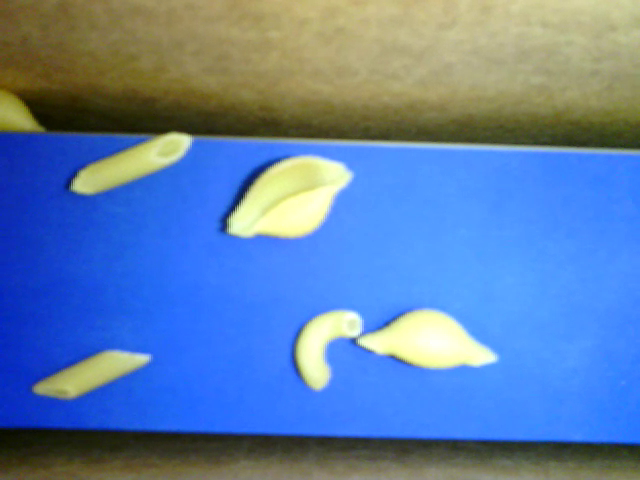elbow: (289, 305, 365, 398)
penne: (65, 122, 196, 203), (27, 338, 160, 402)
shell: (220, 152, 369, 244), (354, 305, 513, 376), (1, 87, 46, 134)
